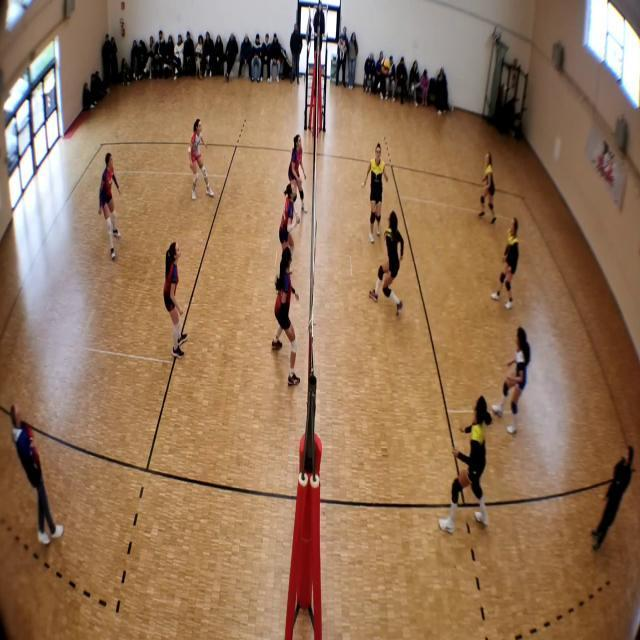volleyball: (380, 58, 390, 74)
